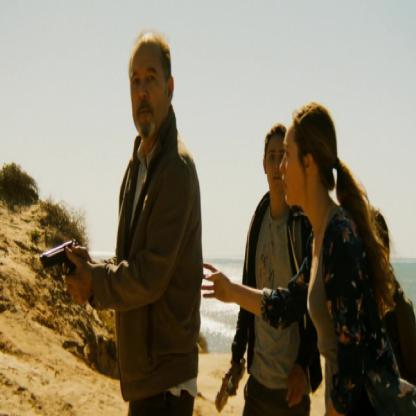Gun: (35, 234, 86, 282)
